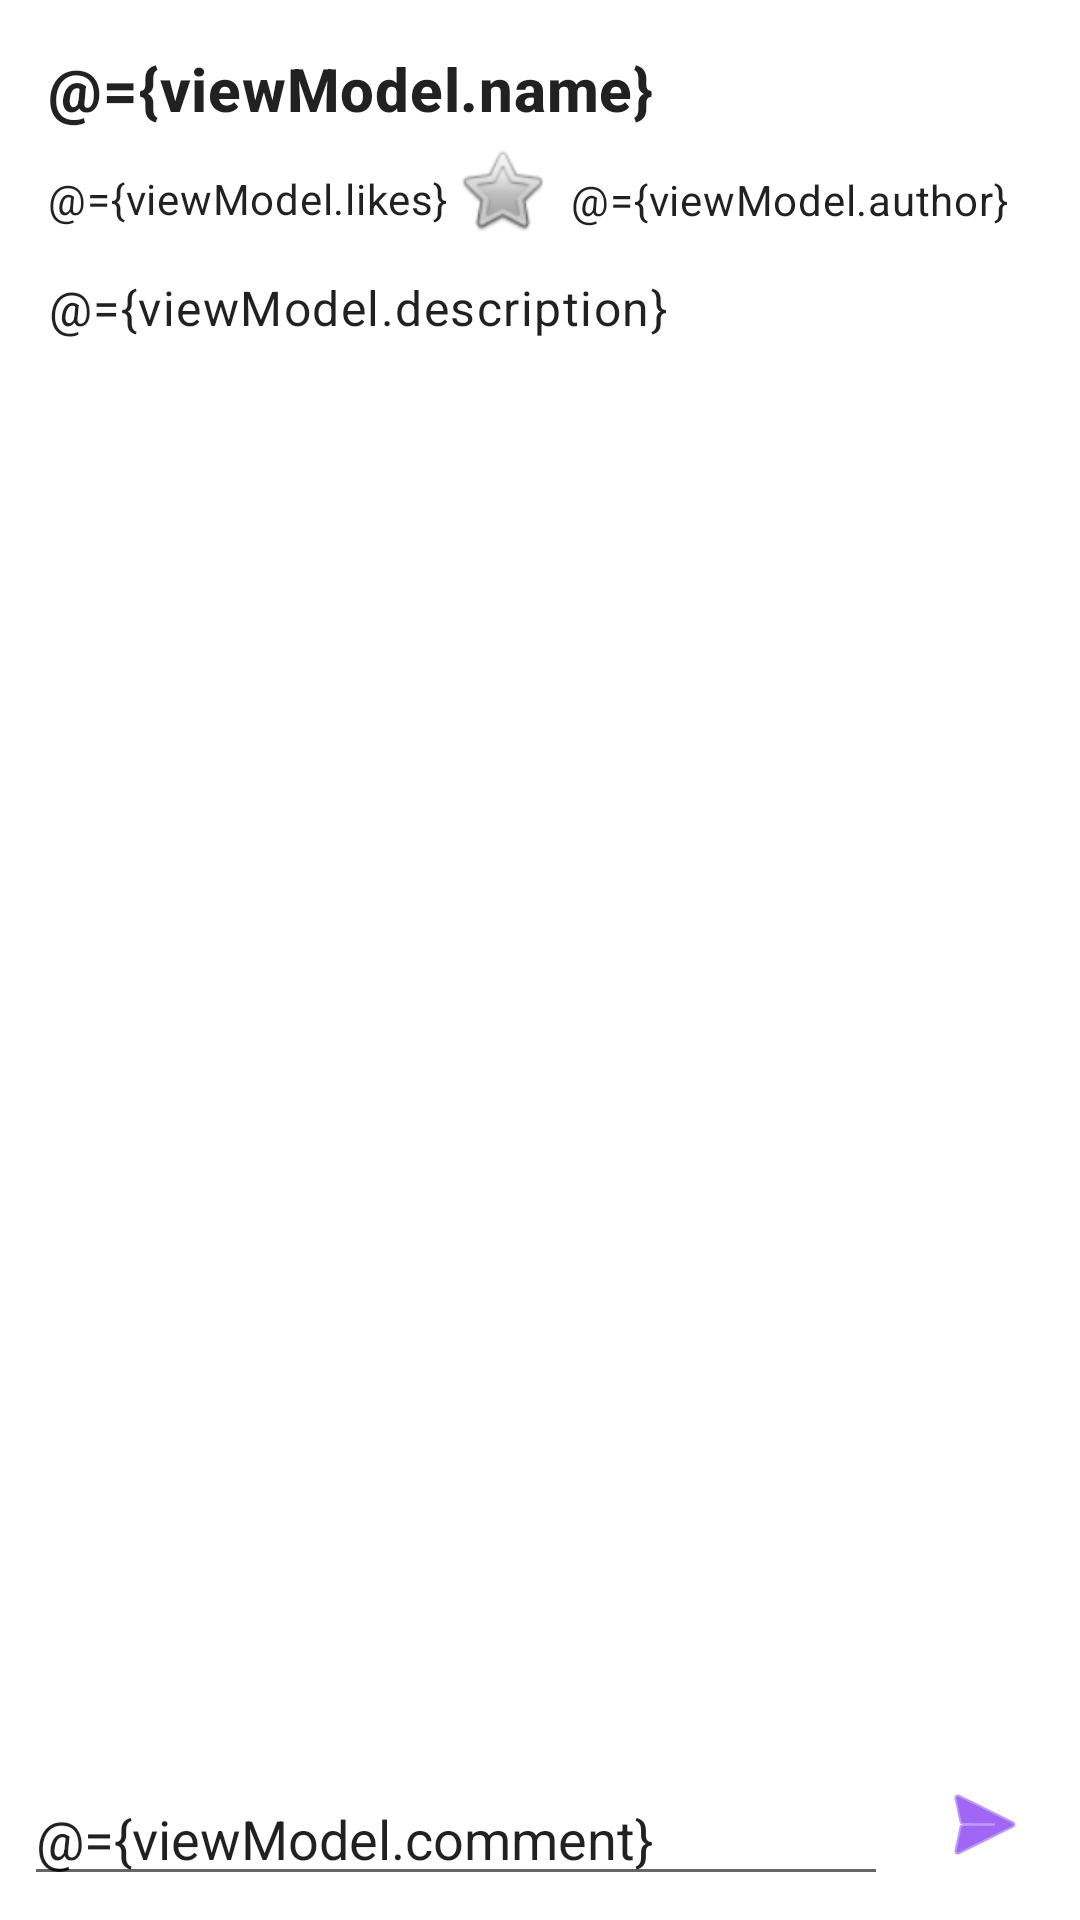

Icon bounding boxes for this 1080w x 1920h phone screenshot, format (x1, y1, x2, y2):
Send comment: (954, 1794, 1016, 1855)
